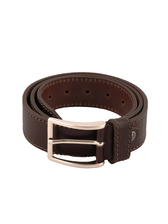other: (18, 71, 153, 166)
